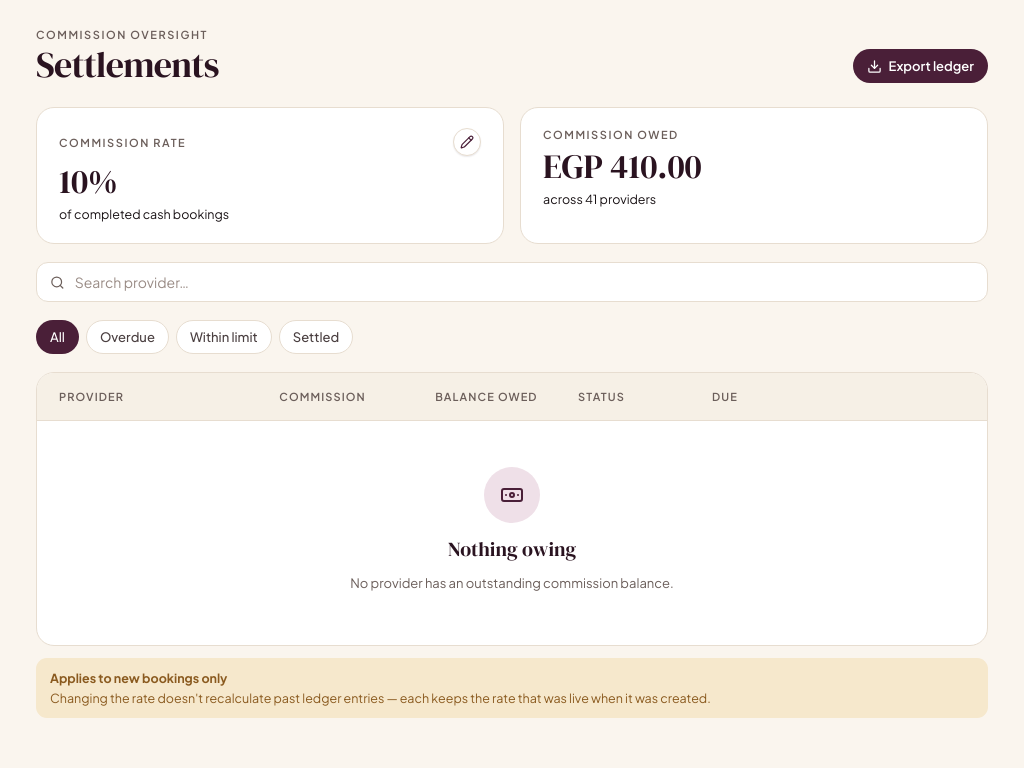
Test: <Settlements> - server paging, search and status filter › a filter that matches nothing says so instead of 'Nothing owing'
Expected: the text "Nothing owing" is shown, [448, 535, 576, 563]
Click the button "Settled". click: (316, 337)
box: [279, 320, 353, 354]
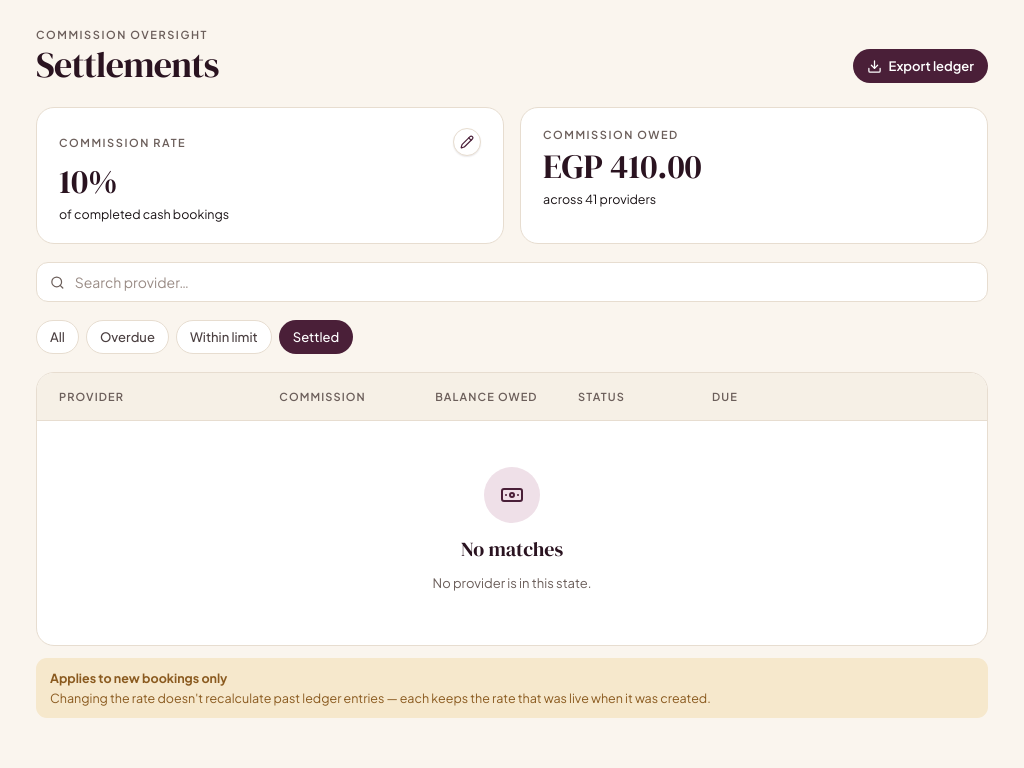
Result: the text "No matches" is shown at [461, 535, 563, 563]
